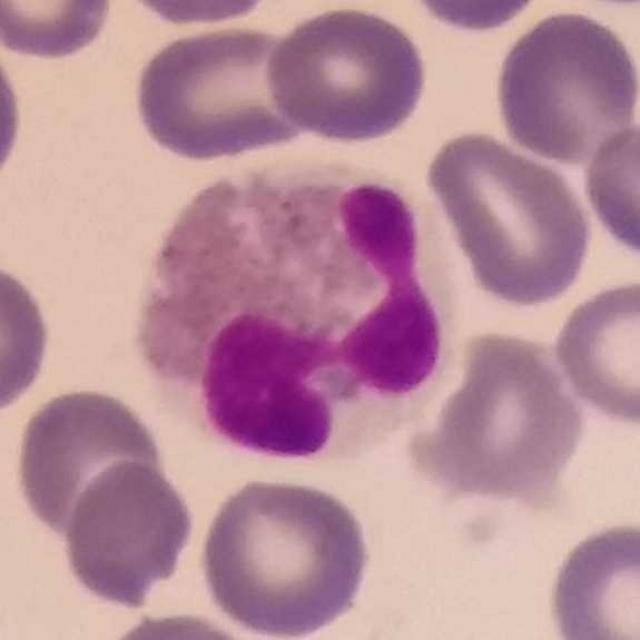eosino: (134, 167, 457, 457)
